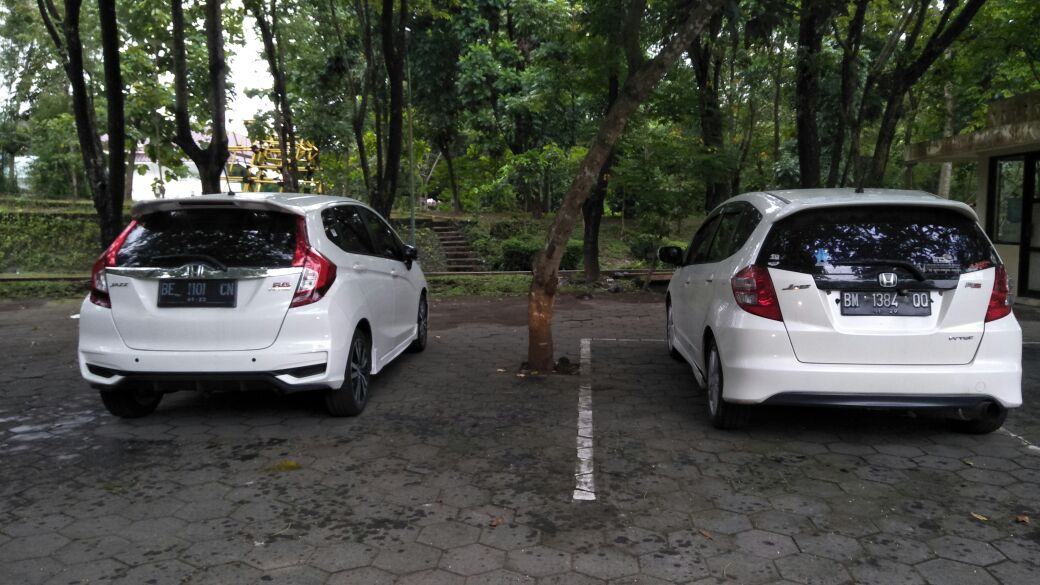plate: (842, 289, 932, 314), (157, 279, 239, 306)
